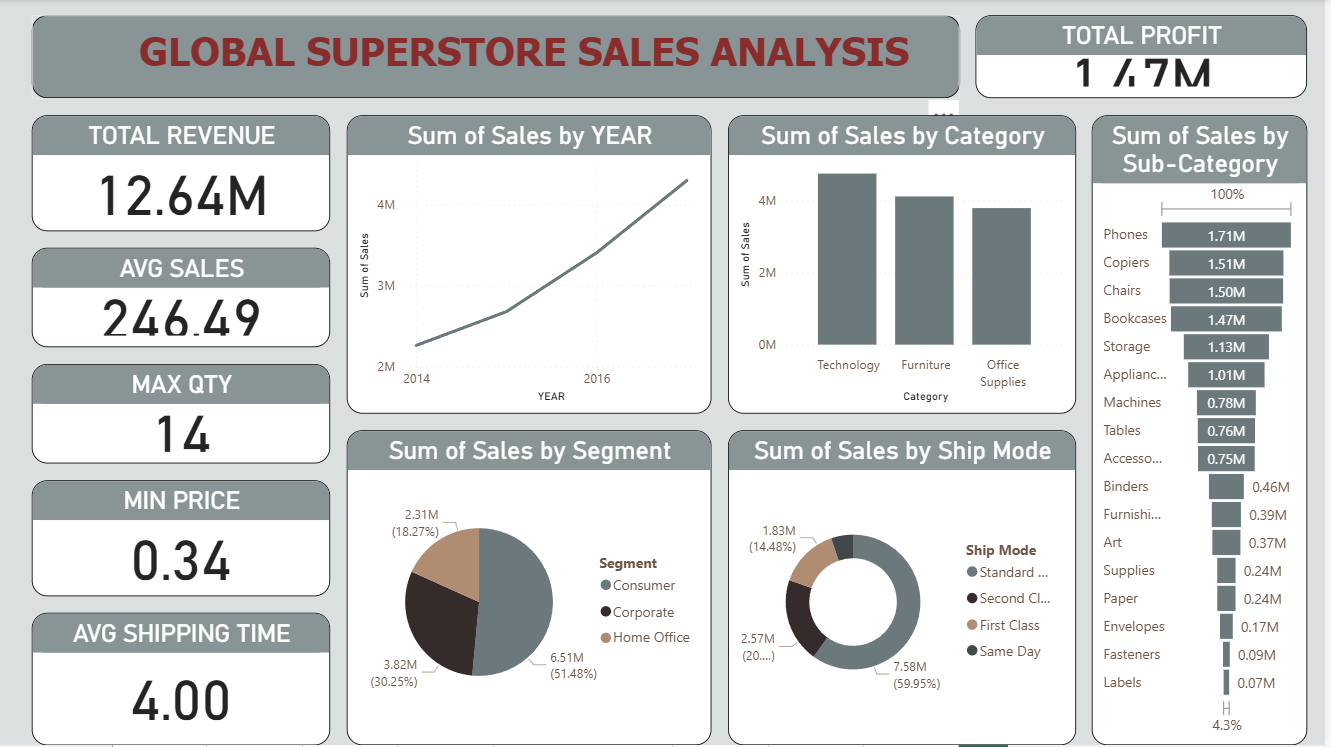

Layout of this report page (visuals, bound fields, positions):
{"tool":"powerbi","page":{"name":"Page 1","canvas":[1280,720],"ordinal":0},"visuals":[{"type":"card","title":"MAX QTY","fields":{"Values":["CALENDER.MAX QTY"]},"box":[32,352,288,96],"z":0},{"type":"card","title":"MIN PRICE","fields":{"Values":["CALENDER.MIN PRICE"]},"box":[32,464,288,112],"z":1000},{"type":"card","title":"TOTAL REVENUE","fields":{"Values":["CALENDER.SUM OF SALES"]},"box":[32,112,288,112],"z":2000},{"type":"card","title":"AVG SHIPPING TIME","fields":{"Values":["Orders.AVG SHIPPING TIME"]},"box":[32,592,288,128],"z":3000},{"type":"card","title":"AVG SALES","fields":{"Values":["CALENDER.AVG SALES"]},"box":[32,240,288,96],"z":4000},{"type":"textbox","box":[32,16,896,80],"z":5000},{"type":"lineChart","fields":{"Category":["CALENDER.YEAR"],"Y":["Sum(Orders.Sales)"]},"box":[336,112,352,288],"z":6000},{"type":"columnChart","fields":{"Category":["Orders.Category"],"Y":["Sum(Orders.Sales)"]},"box":[704,112,336,288],"z":7000},{"type":"pieChart","fields":{"Category":["Orders.Segment"],"Y":["Sum(Orders.Sales)"]},"box":[336,416,352,304],"z":8000},{"type":"funnel","fields":{"Category":["Orders.Sub-Category"],"Y":["Sum(Orders.Sales)"]},"box":[1056,112,208,608],"z":9000},{"type":"donutChart","fields":{"Category":["Orders.Ship Mode"],"Y":["Sum(Orders.Sales)"]},"box":[704,416,336,304],"z":10000},{"type":"card","title":"TOTAL PROFIT","fields":{"Values":["Sum(Orders.Profit)"]},"box":[944,16,320,80],"z":11000}]}

Visuals, with their boxes in screenshot pixels (x1, y1, x2, y2), scaled from the page's 1280x720 canvas onto the 1331x747 screenshot:
"MAX QTY" card: [33, 365, 333, 465]
"MIN PRICE" card: [33, 481, 333, 598]
"TOTAL REVENUE" card: [33, 116, 333, 232]
"AVG SHIPPING TIME" card: [33, 614, 333, 746]
"AVG SALES" card: [33, 249, 333, 349]
textbox: [33, 17, 965, 100]
lineChart - CALENDER.YEAR x Sum(Orders.Sales): [349, 116, 715, 415]
columnChart - Orders.Category x Sum(Orders.Sales): [732, 116, 1081, 415]
pieChart - Orders.Segment x Sum(Orders.Sales): [349, 432, 715, 746]
funnel - Orders.Sub-Category x Sum(Orders.Sales): [1098, 116, 1314, 746]
donutChart - Orders.Ship Mode x Sum(Orders.Sales): [732, 432, 1081, 746]
"TOTAL PROFIT" card: [982, 17, 1314, 100]
